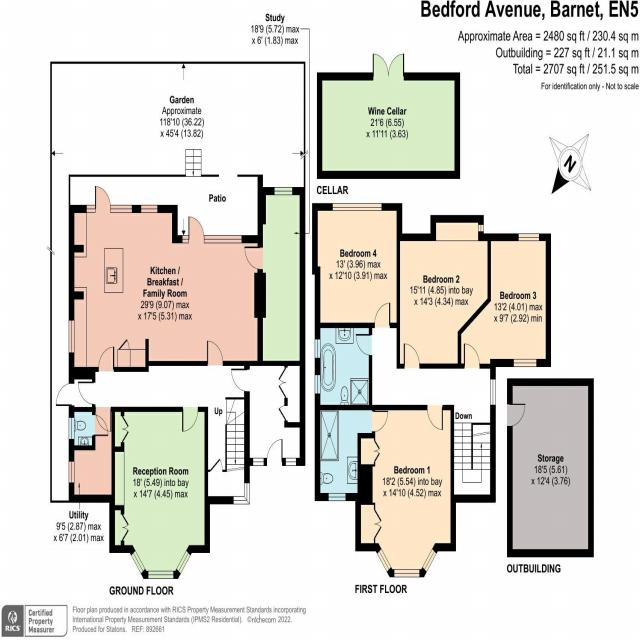DOOR: (371, 51, 406, 81), (230, 367, 250, 393), (244, 245, 263, 271), (97, 345, 115, 372), (206, 339, 224, 366), (266, 438, 283, 466), (188, 215, 205, 243), (55, 382, 74, 407), (77, 380, 95, 406), (463, 343, 480, 369), (403, 343, 420, 369), (374, 302, 391, 328), (182, 407, 199, 432), (427, 405, 443, 430), (355, 333, 372, 356), (372, 410, 389, 432), (210, 458, 223, 472)
ROOM: (68, 185, 266, 372), (355, 404, 456, 578), (109, 407, 210, 580), (397, 215, 491, 369), (457, 233, 551, 369), (312, 203, 403, 329)
WINDOW: (332, 202, 383, 212), (130, 549, 146, 575), (175, 549, 191, 575), (376, 548, 392, 573), (204, 234, 242, 244), (422, 548, 437, 573), (233, 483, 250, 505), (147, 570, 174, 580), (68, 319, 75, 355), (513, 358, 537, 368), (394, 569, 420, 578), (110, 204, 133, 214), (518, 233, 540, 242), (328, 492, 346, 502), (140, 204, 158, 214), (490, 378, 496, 406), (68, 461, 75, 484), (68, 417, 75, 440), (314, 374, 321, 395), (314, 338, 321, 359), (285, 456, 297, 467), (253, 457, 264, 466), (86, 204, 96, 213), (182, 235, 190, 244), (478, 224, 484, 232)
